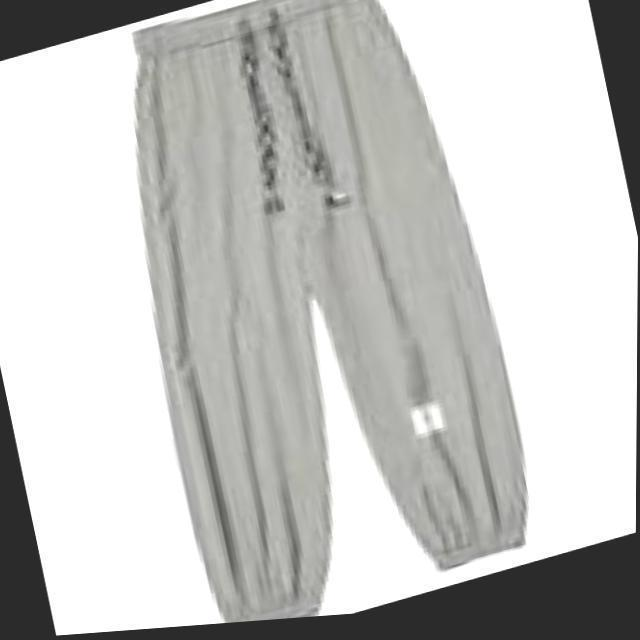pants: (138, 2, 526, 620)
